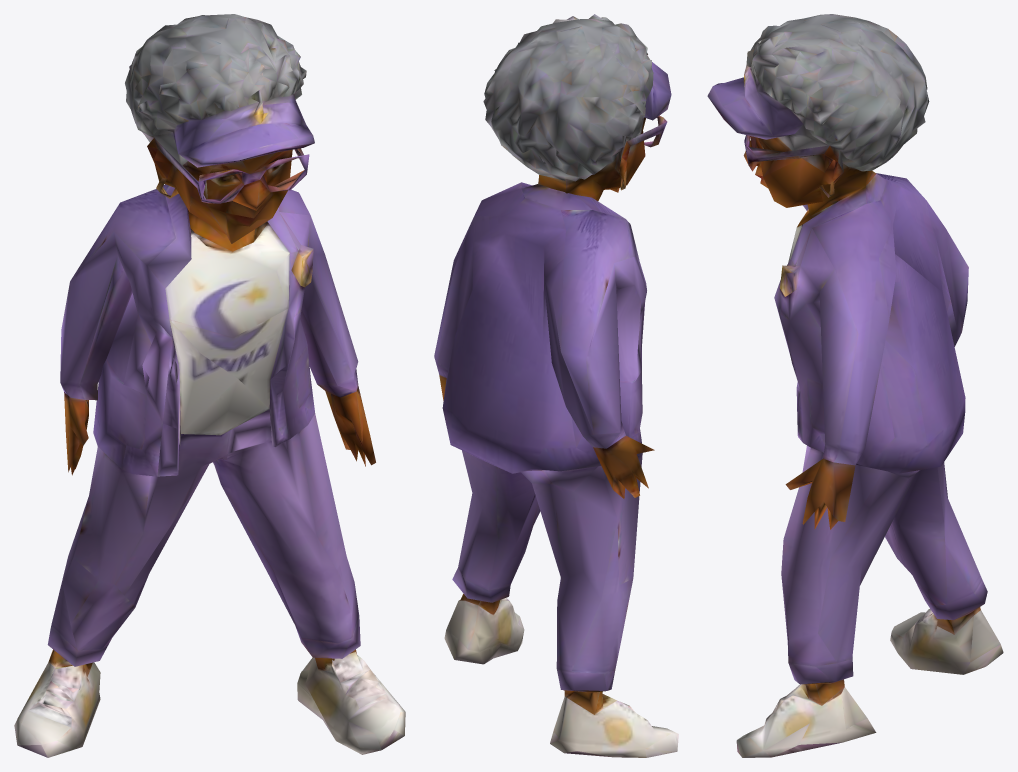
Rendered from fan07.glb.
3 renders of one model, left to right at view 1: azimuth 30°, elevation 25°; view 2: azimuth 150°, elevation 25°; view 3: azimuth 270°, elevation 25°, orthographic. The views are drawn at different scales.
Parts seen in each view (by area): view 1: material_proxy; view 2: material_proxy; view 3: material_proxy.
Part boxes in pixels (x1,y1,x2,y2): material_proxy: (14, 14, 405, 757); material_proxy: (434, 14, 678, 757); material_proxy: (707, 14, 1003, 757).
Size of the model in its own units: 0.5039 by 1.15 by 0.4463.
1 material, 1 textured.
